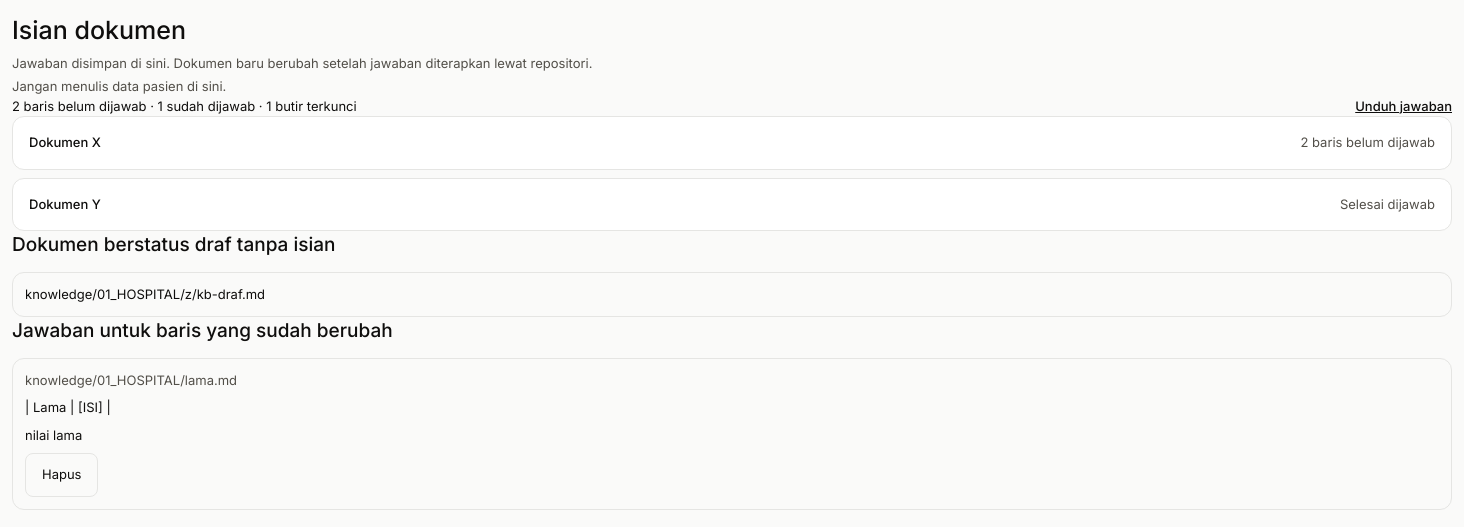
Test case: document answers: overview › lists draft-only documents and answers whose line changed
Check: the text "2 baris belum dijawab · 1 sudah dijawab · 1 butir terkunci" is shown, box x1=12 y1=96 x2=357 y2=116
Check: the list item "knowledge/01_HOSPITAL/z/kb-draf.md" is shown, box x1=12 y1=272 x2=1452 y2=317
Click the button "Hapus".
click(62, 475)  # box x1=25 y1=453 x2=98 y2=497
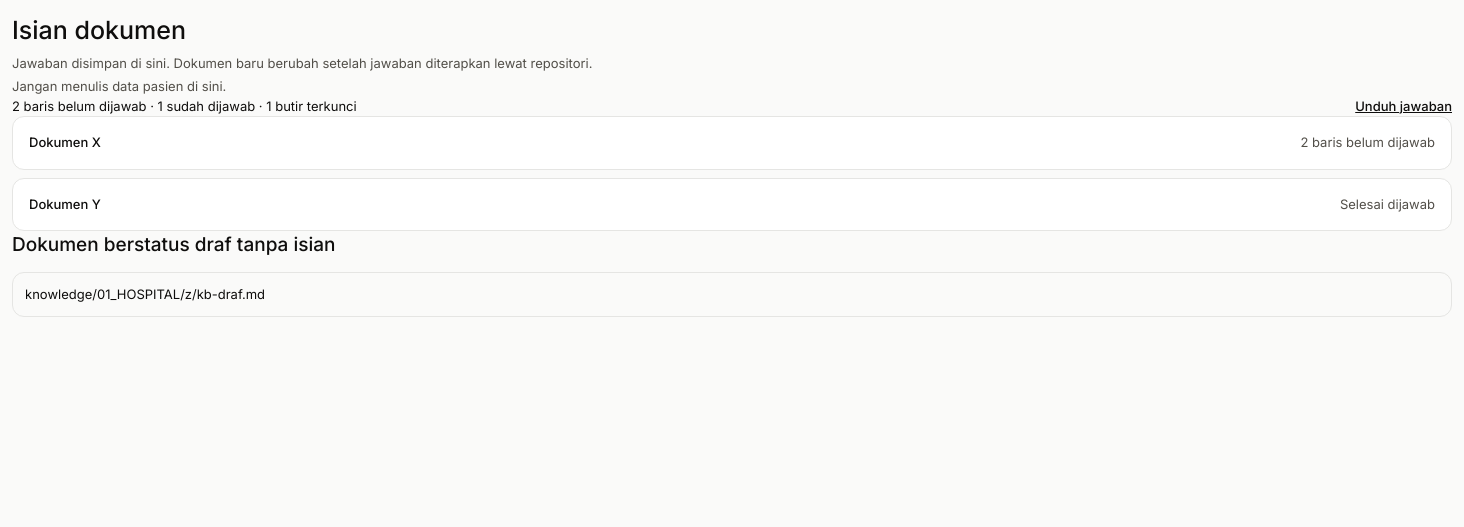
Check: the heading "Jawaban untuk baris yang sudah berubah" is gone
